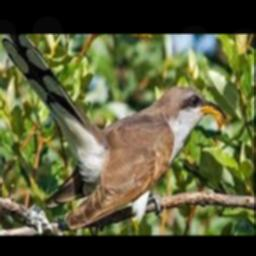Cuckoo: (2, 34, 228, 228)
